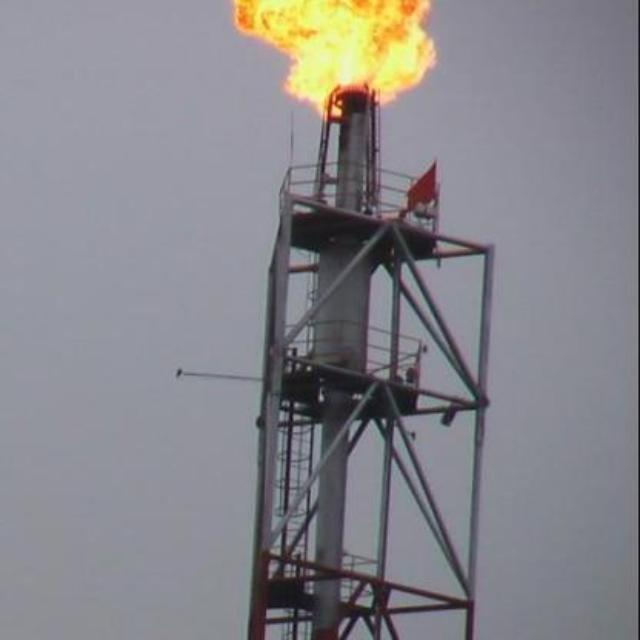Fire: (234, 0, 436, 118)
